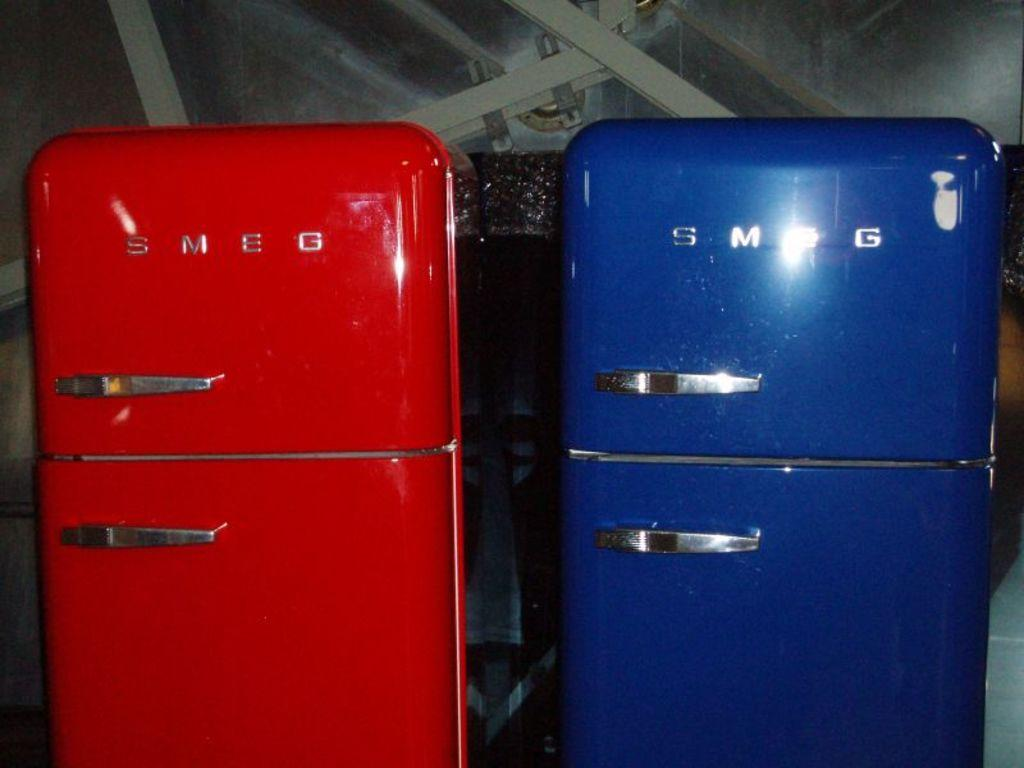handle: (586, 511, 768, 570), (48, 507, 226, 558), (591, 356, 767, 406), (47, 360, 225, 404)
